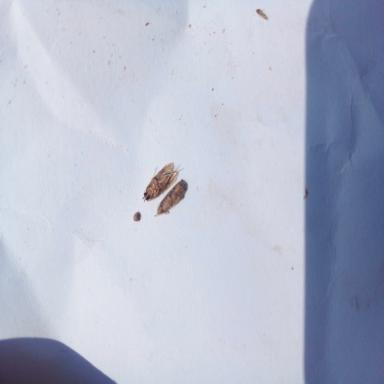pbw: (142, 161, 183, 202), (155, 179, 188, 216), (255, 8, 268, 20)
